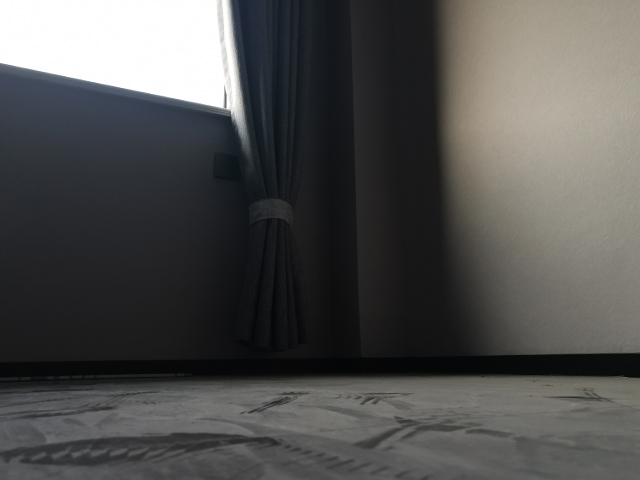curtain: (215, 1, 317, 355)
